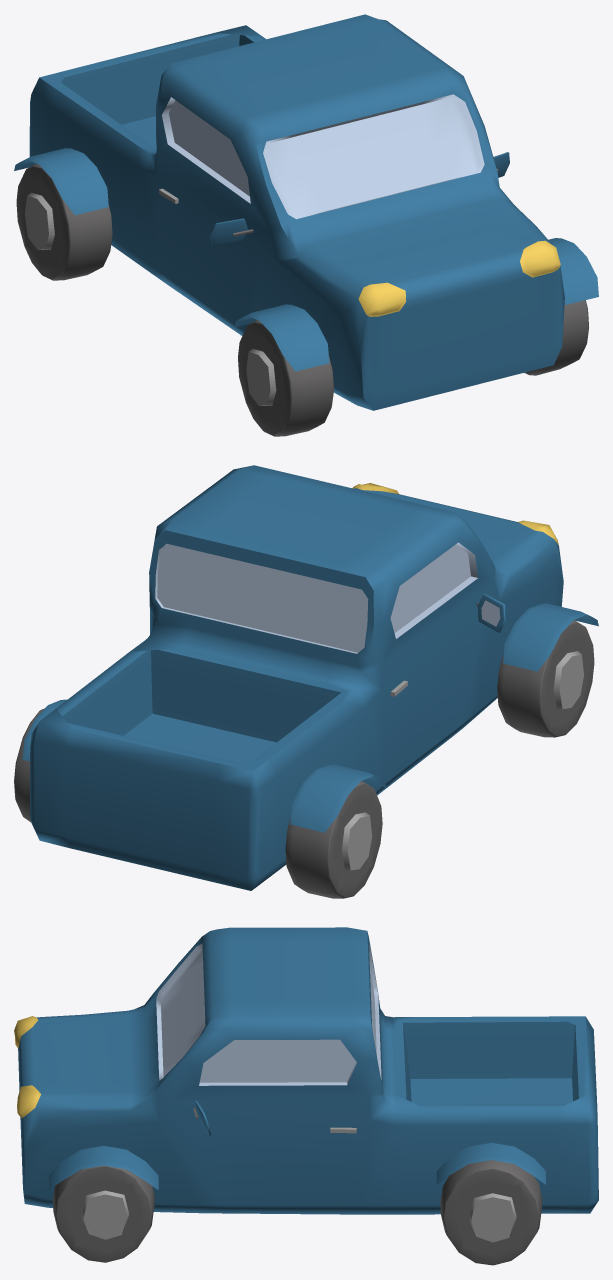
File: Car.glb
The picture shows the model from 3 angles, top to bottom: view 1: azimuth 30°, elevation 25°; view 2: azimuth 150°, elevation 25°; view 3: azimuth 270°, elevation 25°; orthographic projection. The views are drawn at different scales.
Visible parts, largest first — view 1: Car; view 2: Car; view 3: Car.
Part boxes in pixels (bbox=[...]): Car: bbox=[14, 14, 598, 436]; Car: bbox=[14, 465, 598, 898]; Car: bbox=[14, 927, 598, 1265].
Bounding box in the file's own units: 0.9027 × 0.6845 × 1.58.
Materials: 1 (1 with a texture image).
